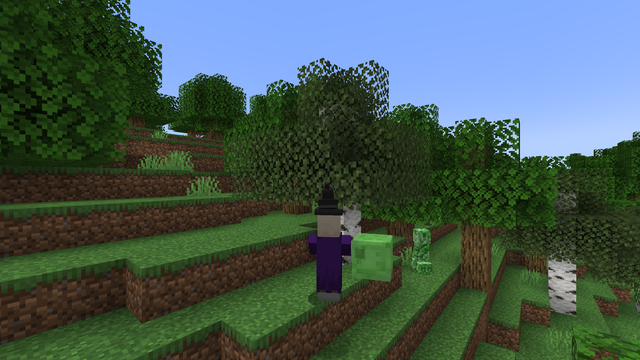creepers: (411, 226, 431, 274)
slimes: (352, 231, 398, 283)
sorcieres: (310, 208, 348, 307)
